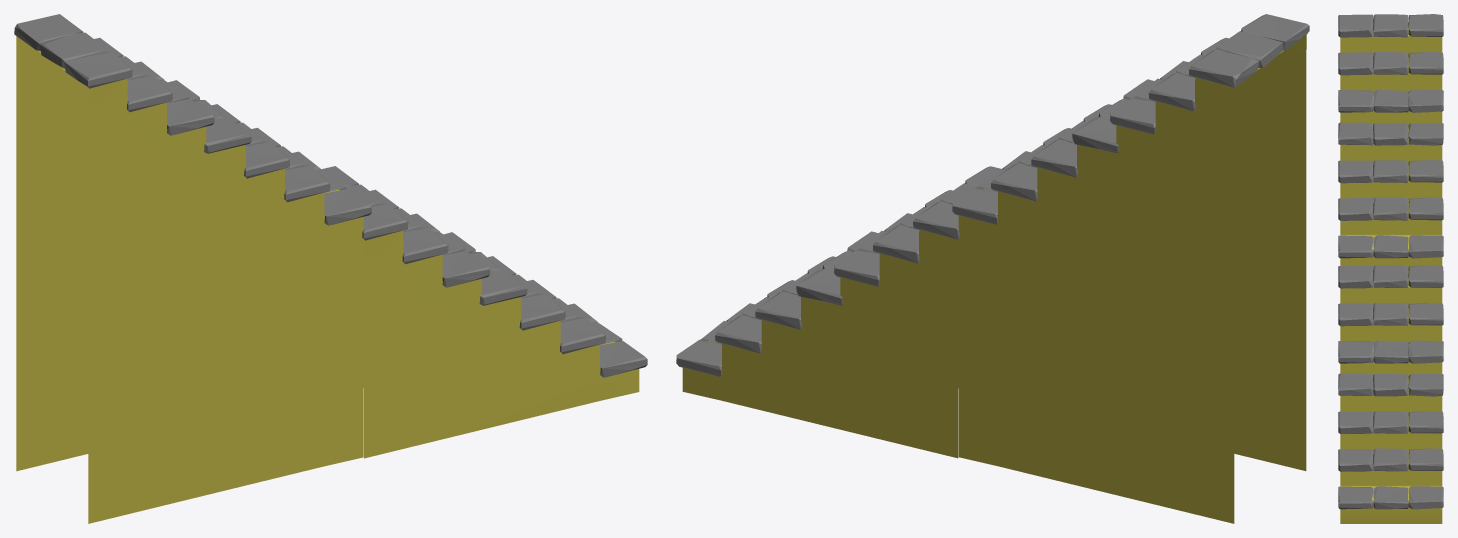
The model's file is SM_staircase_04.fbx.
3 renders of one model, left to right at view 1: azimuth 30°, elevation 25°; view 2: azimuth 150°, elevation 25°; view 3: azimuth 270°, elevation 25°, orthographic. The views are drawn at different scales.
Parts seen in each view (by area): view 1: Object32400; view 2: Object32400; view 3: Object32400.
Boxes of the visible parts, bbox=[...] form: Object32400: bbox=[14, 14, 647, 523]; Object32400: bbox=[676, 14, 1309, 523]; Object32400: bbox=[1338, 14, 1443, 523].
Bounding box in the file's own units: 280 × 215 × 64.59.
